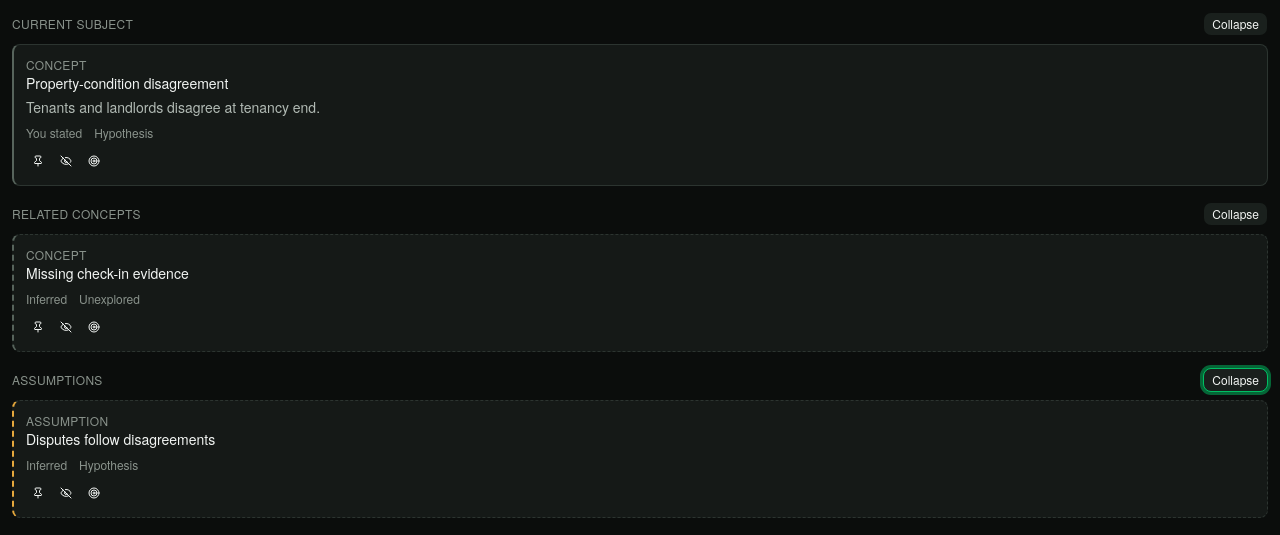
Test: StructuredInspector view operations › collapses and expands a zone from the keyboard
The image size is (1280, 535).
Press Enter
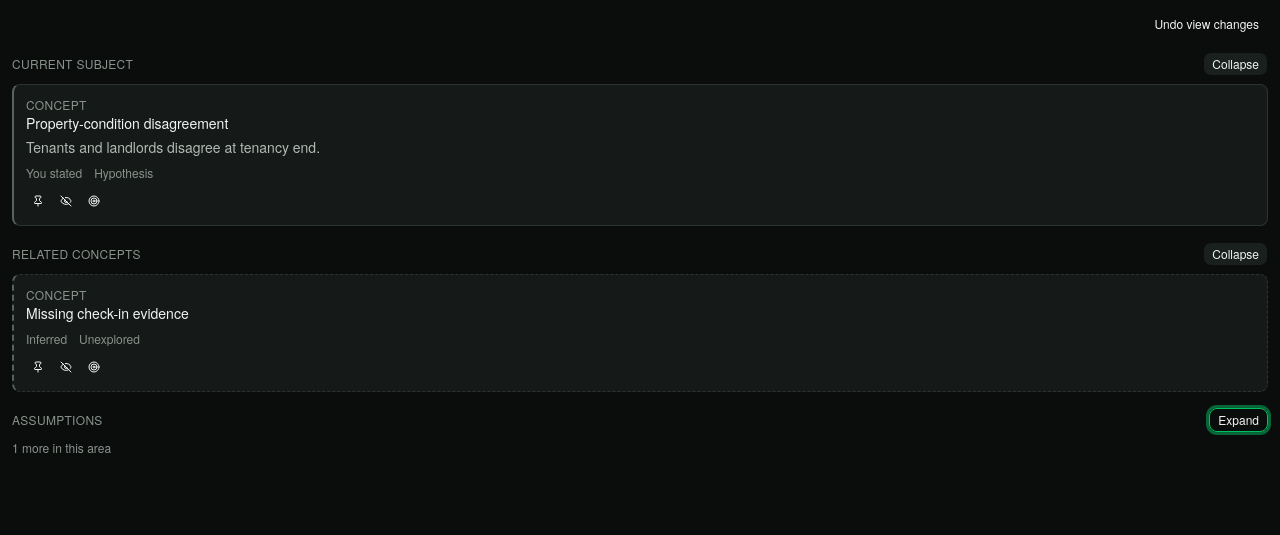
Expected: the heading "Disputes follow disagreements" is gone
Click the button "Expand" at (1239, 420), box [1209,408,1268,432]
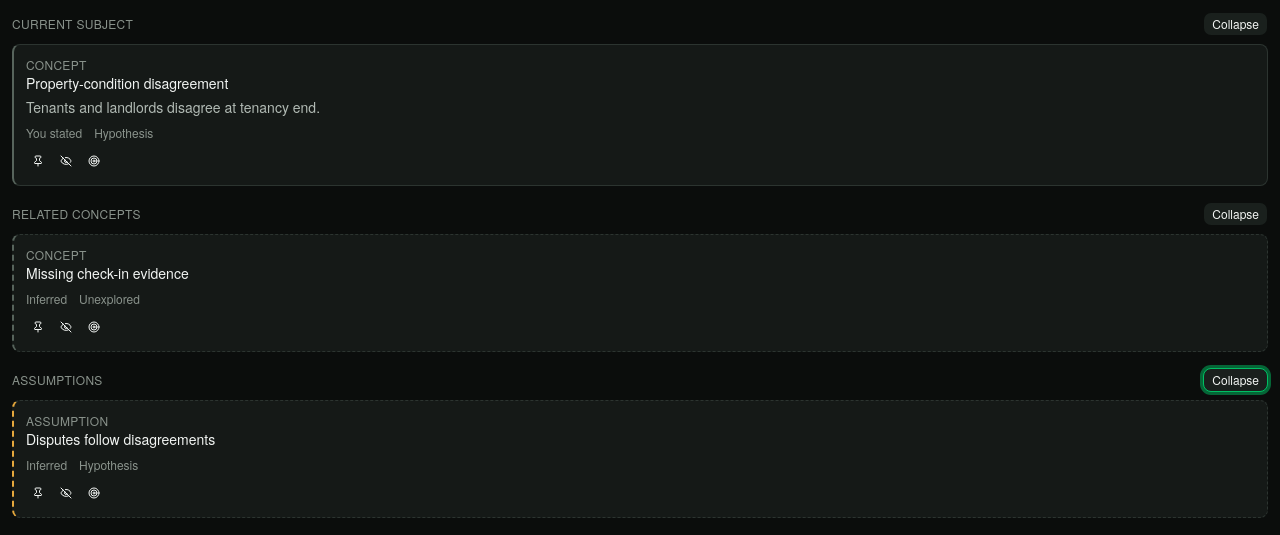
Expected: the heading "Disputes follow disagreements" is shown, [26,429,215,449]
